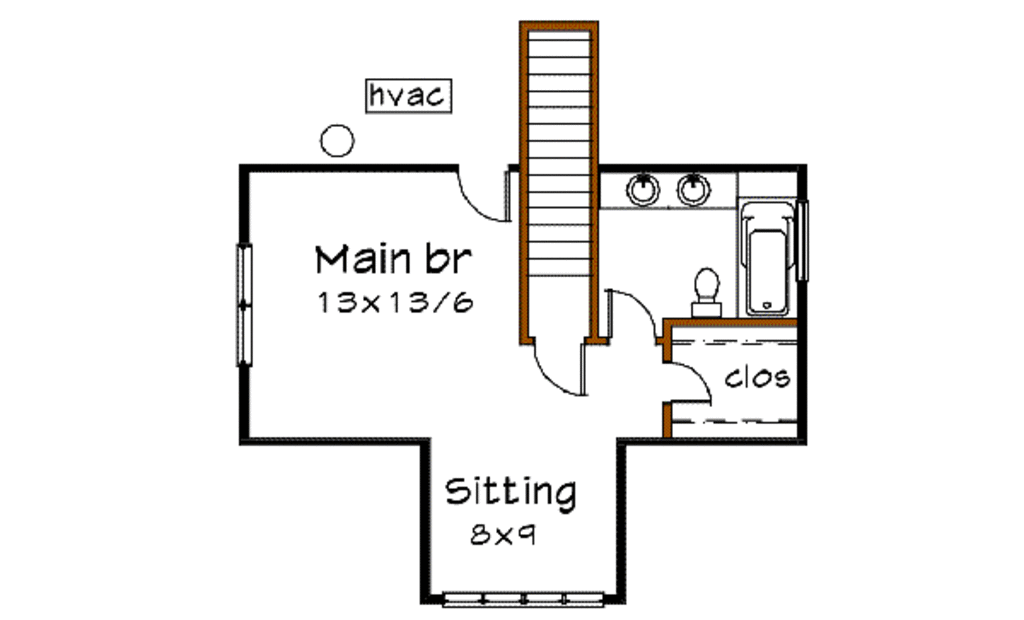door: (453, 161, 512, 220), (534, 345, 584, 401), (607, 287, 656, 341), (663, 364, 717, 406)
large_sink: (683, 264, 722, 322)
small_sink: (610, 174, 661, 206), (673, 173, 714, 212)
stairs: (525, 23, 589, 335)
tub: (737, 198, 795, 316)
window: (236, 244, 252, 368), (443, 594, 600, 604), (799, 197, 807, 284)
